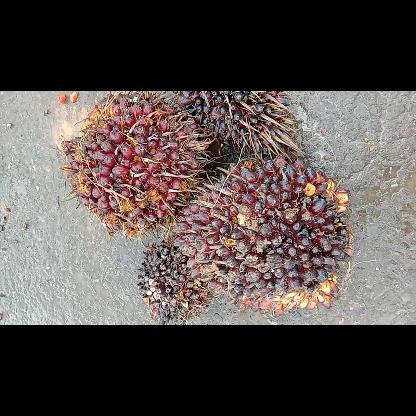Kurang masak: (174, 157, 348, 311)
TBS abnormal: (174, 90, 292, 156), (134, 244, 212, 324)
TBS masak: (62, 91, 204, 237)
